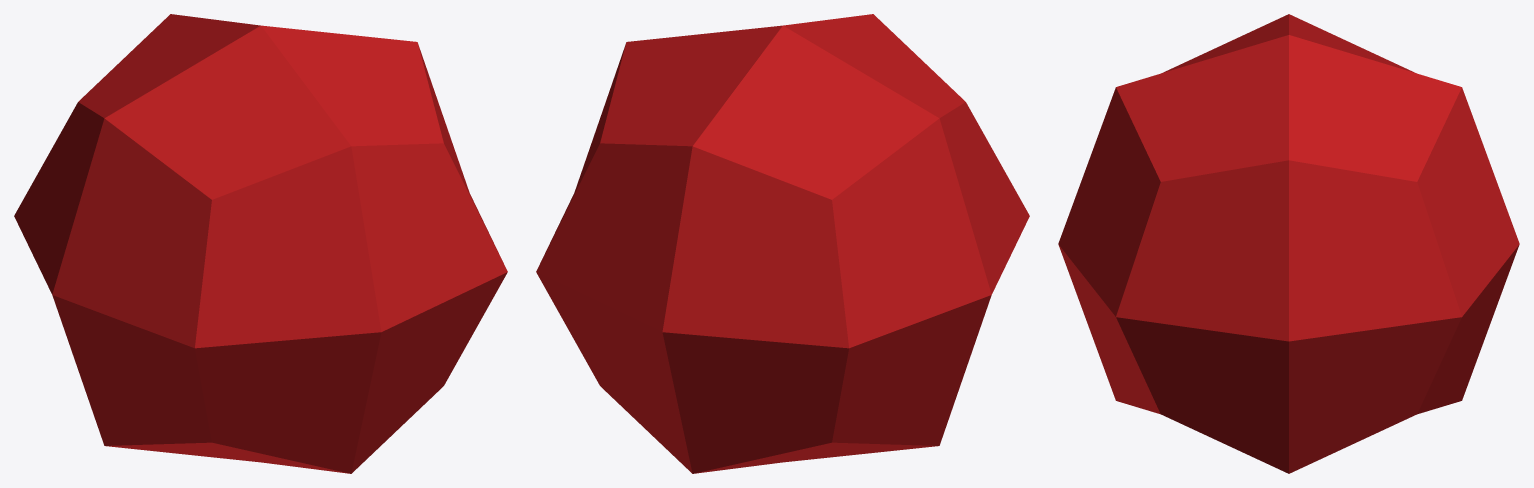
File: Apple_04.fbx
3 views of the same model, side by side, from view 1: azimuth 30°, elevation 25°; view 2: azimuth 150°, elevation 25°; view 3: azimuth 270°, elevation 25° (orthographic). The views are drawn at different scales.
Parts seen in each view (by area): view 1: Apple_04; view 2: Apple_04; view 3: Apple_04.
Part boxes in pixels (x1=…): Apple_04: x1=14, y1=14, x2=507, y2=473; Apple_04: x1=536, y1=14, x2=1029, y2=473; Apple_04: x1=1058, y1=14, x2=1519, y2=473.
Size of the model in its own units: 34.58 by 34.58 by 34.58.
